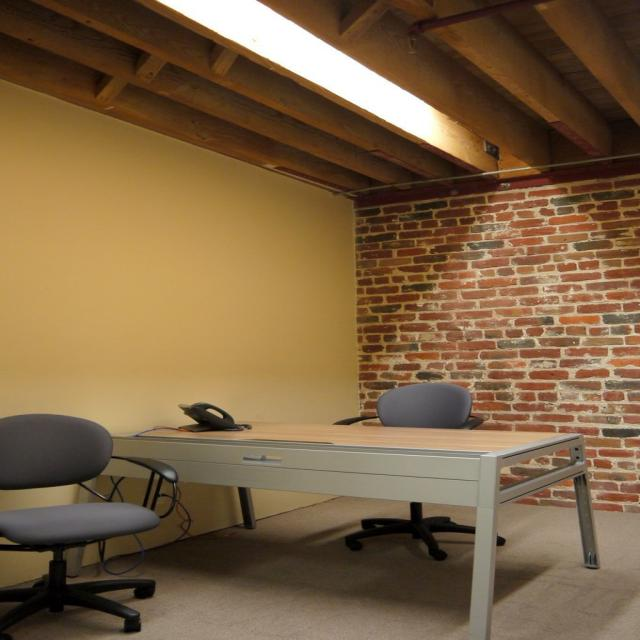chair: (0, 414, 180, 634), (338, 381, 486, 559)
desk: (51, 428, 581, 631)
